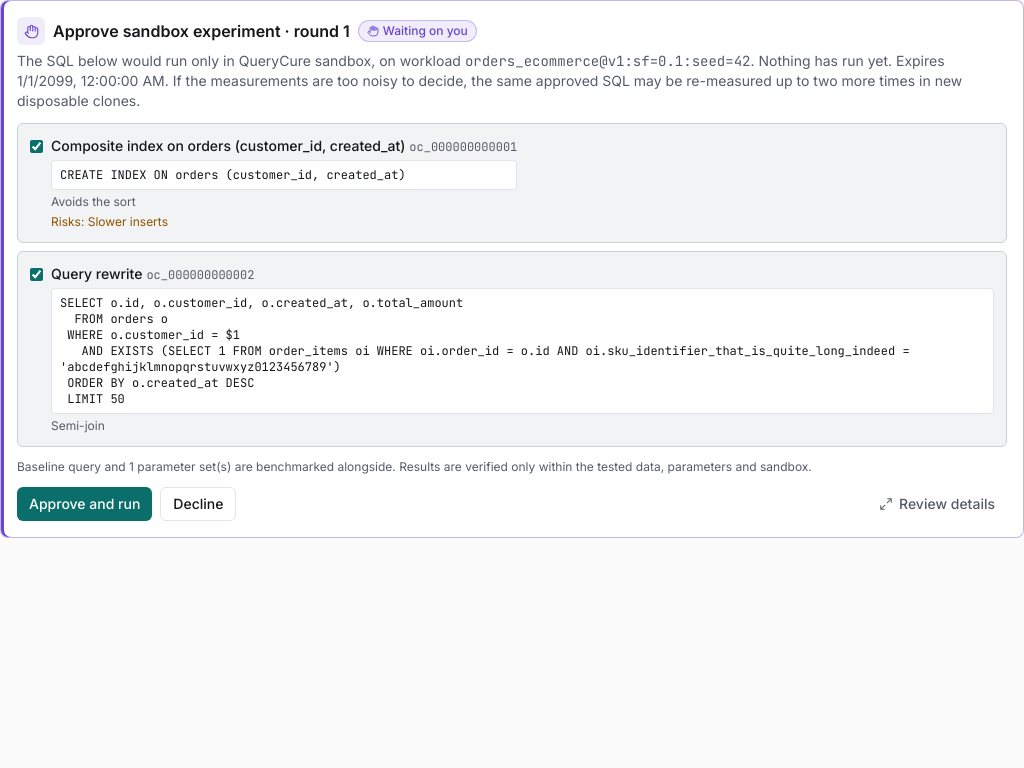
Scenario: copy writes the exact digest to the clipboard
Click the button "Review details" at (937, 504), box [867, 487, 1007, 521]
(page scrolled)
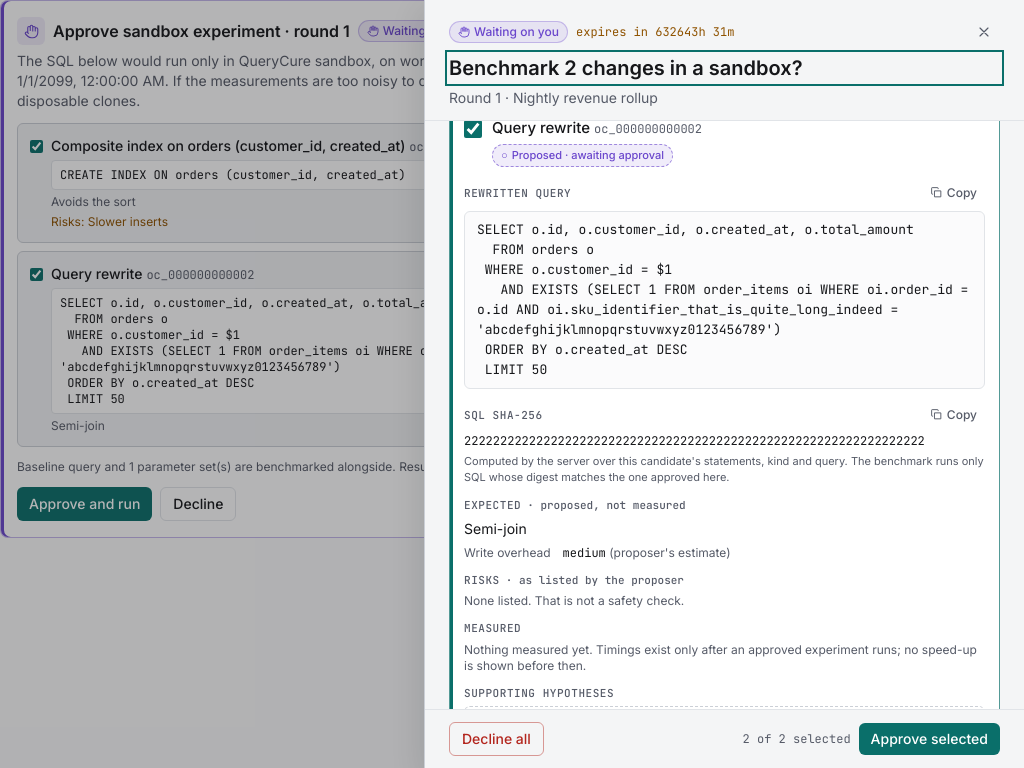
Click the button with aria-label "Copy SQL SHA-256 · oc_000000000002" at (953, 415), box [922, 401, 985, 429]
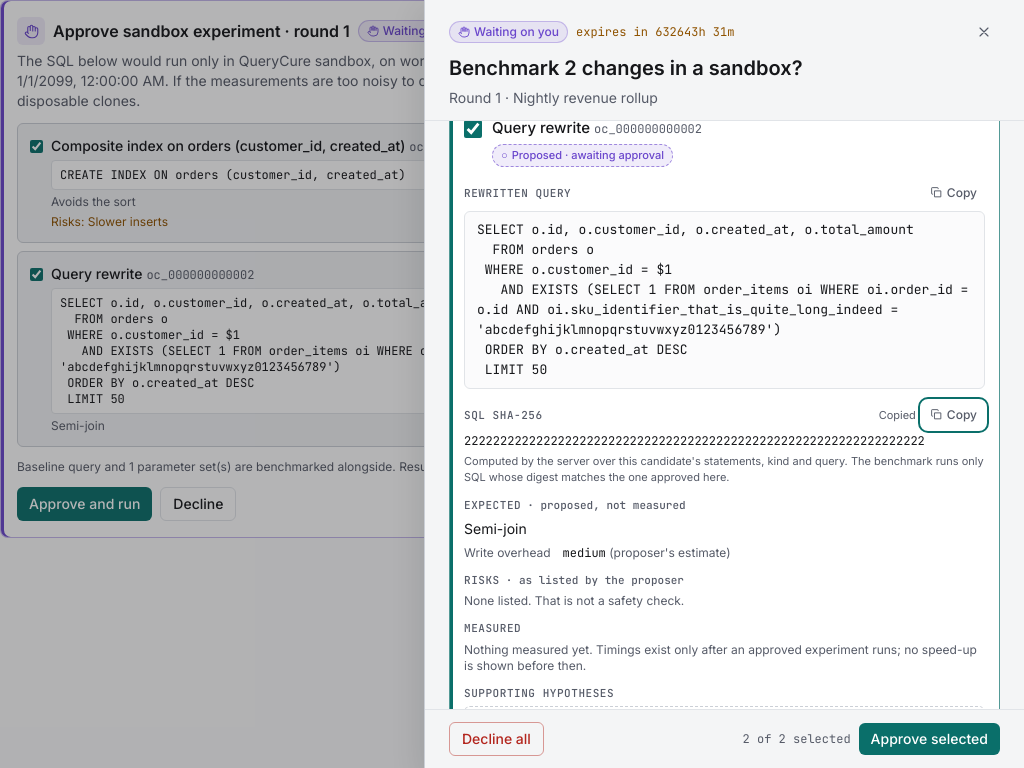
Result: the text "Copied" is shown at [879, 407, 916, 423]
